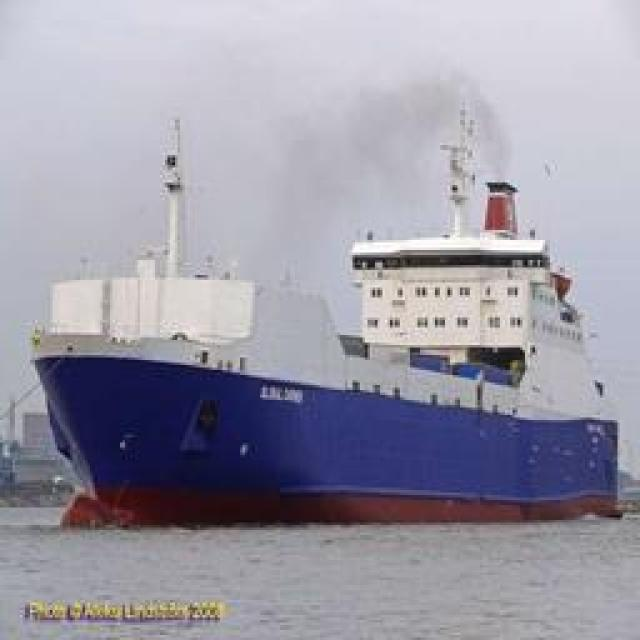CIV_Ship: (22, 119, 626, 522)
